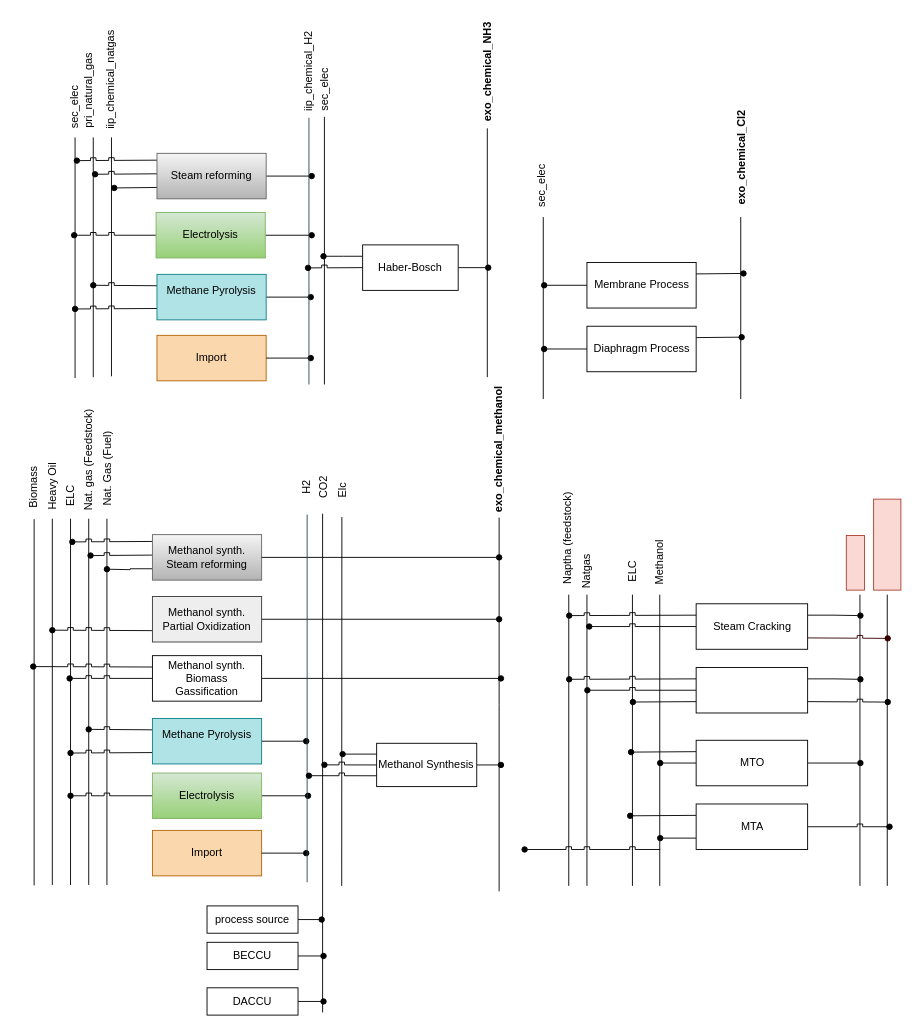
This 916x1031 diagram has some shape labels left out. Each missing label, with the box of its shape:
Aromatics (BTX): (873, 498, 901, 590)
Electric Cracking: (695, 667, 808, 713)
Olifins: (845, 535, 864, 590)
